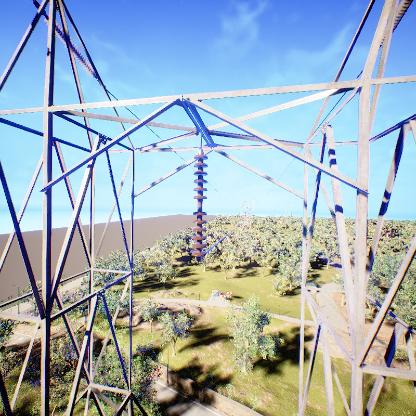insulator: (190, 152, 211, 258)
